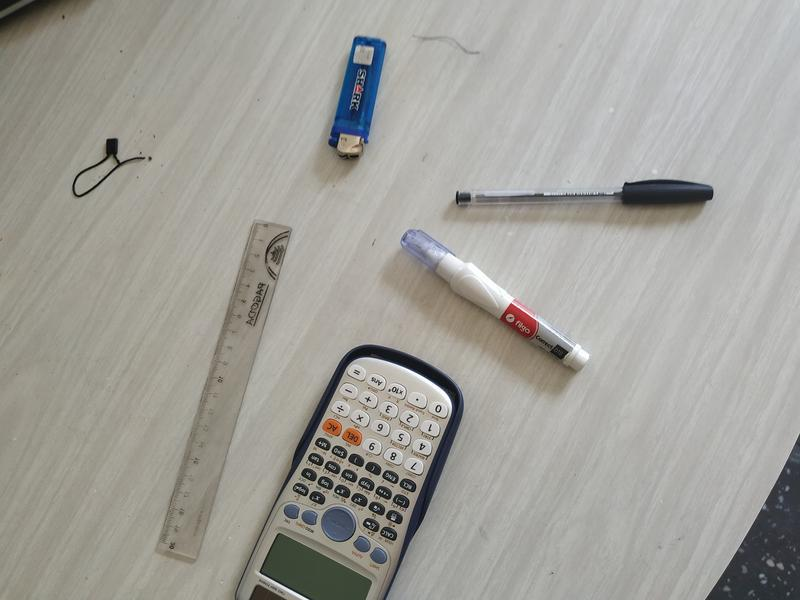calculadora: (226, 340, 465, 597)
corrector: (392, 217, 593, 374)
encendedor: (325, 29, 390, 169)
lapicera: (447, 176, 720, 214)
regla: (155, 195, 291, 562)
